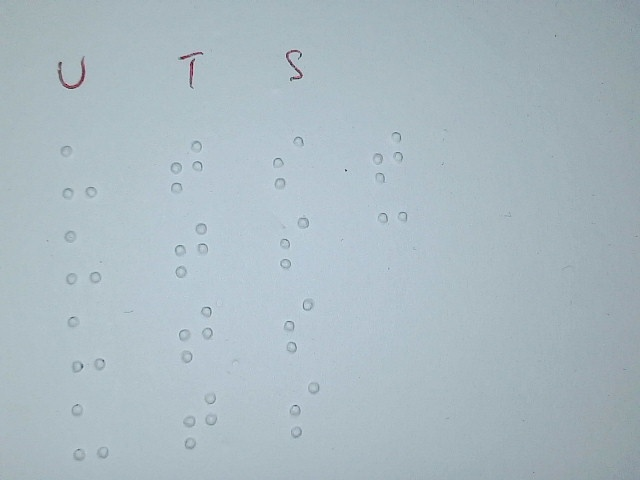S: (270, 133, 307, 192), (277, 213, 312, 272), (281, 295, 316, 354), (287, 379, 322, 438)
T: (168, 136, 205, 195), (173, 220, 210, 279), (177, 304, 214, 363), (182, 391, 219, 450)
U: (65, 314, 107, 372), (70, 402, 110, 462), (59, 143, 99, 200), (63, 228, 103, 285)
